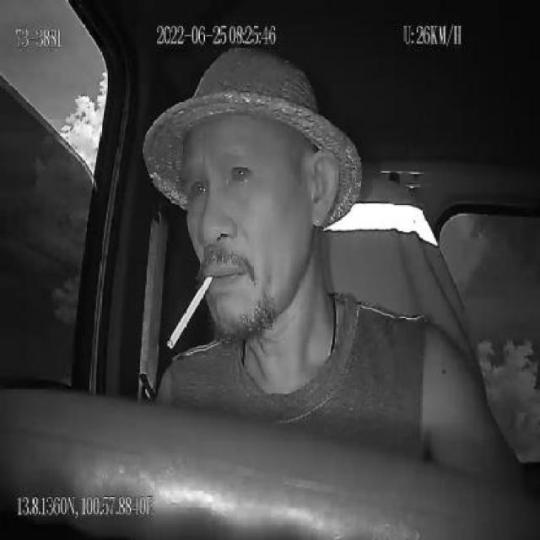smoking: (168, 272, 213, 352)
